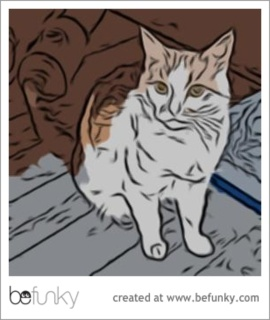Cat: (68, 25, 232, 259)
